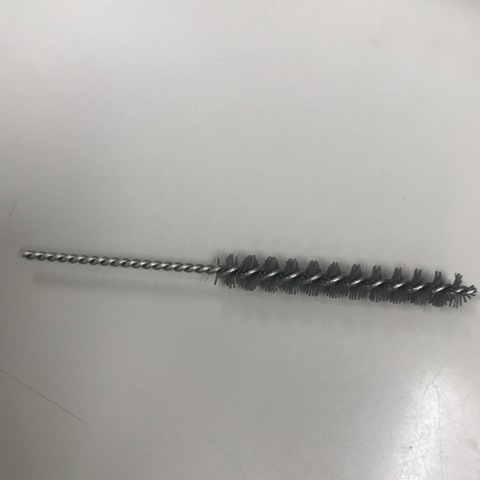Twist Brush-A: (19, 232, 480, 312)
